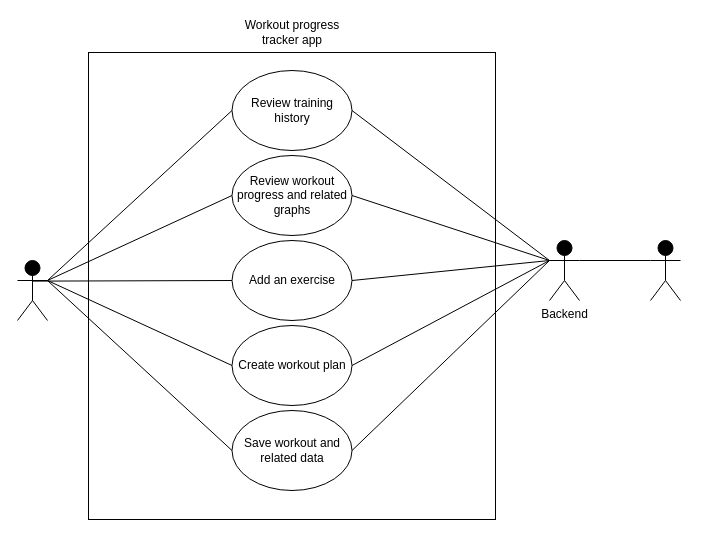
Some shapes in this 708 by 537 pixel diagram are drawn without their labels. Each missing label, with the box of its shape:
Database: (650, 240, 680, 300)
User: (16, 260, 48, 320)
